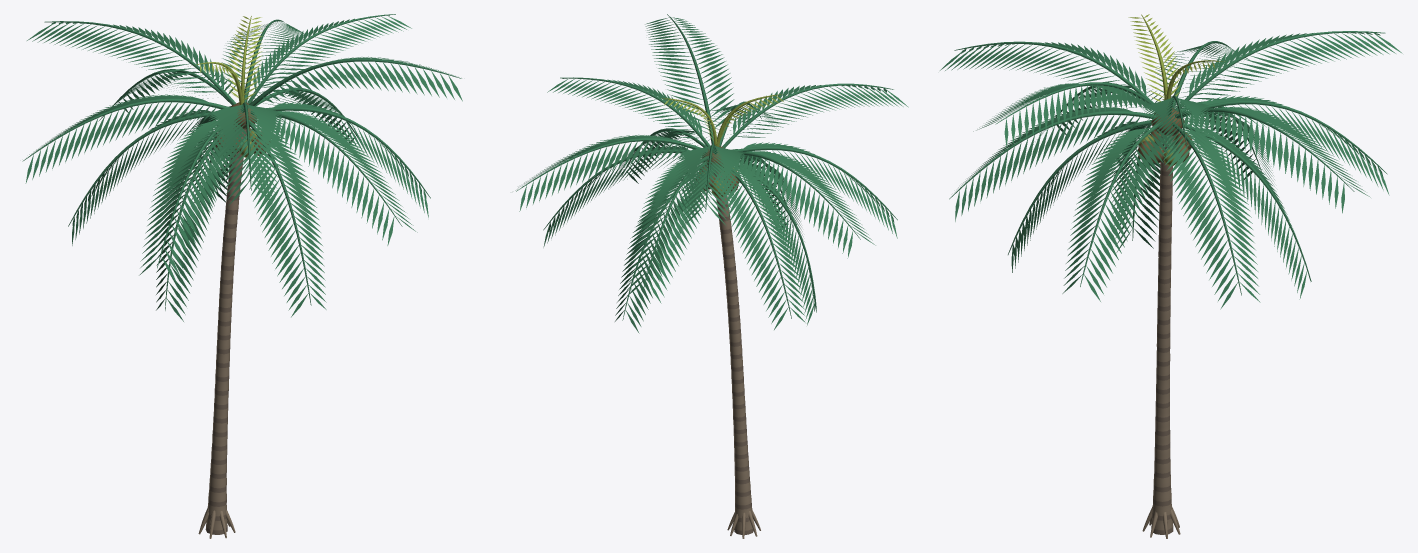
File: env-palm.glb
The picture shows the model from 3 angles, left to right: view 1: azimuth 30°, elevation 25°; view 2: azimuth 150°, elevation 25°; view 3: azimuth 270°, elevation 25°; orthographic projection. The views are drawn at different scales.
Parts seen in each view (by area): view 1: ENV_veg_palm-fronds, ENV_veg_palm-trunk; view 2: ENV_veg_palm-fronds, ENV_veg_palm-trunk; view 3: ENV_veg_palm-fronds, ENV_veg_palm-trunk, ENV_veg_palm-coconuts.
Boxes of the visible parts, <box> form: ENV_veg_palm-fronds: <box>22,14,462,321</box>; ENV_veg_palm-trunk: <box>198,102,256,538</box>; ENV_veg_palm-fronds: <box>515,14,908,333</box>; ENV_veg_palm-trunk: <box>701,146,760,538</box>; ENV_veg_palm-fronds: <box>940,14,1402,309</box>; ENV_veg_palm-trunk: <box>1142,108,1184,538</box>; ENV_veg_palm-coconuts: <box>1137,130,1192,165</box>.
Bounding box in the file's own units: 7.88 × 9.87 × 8.3.
